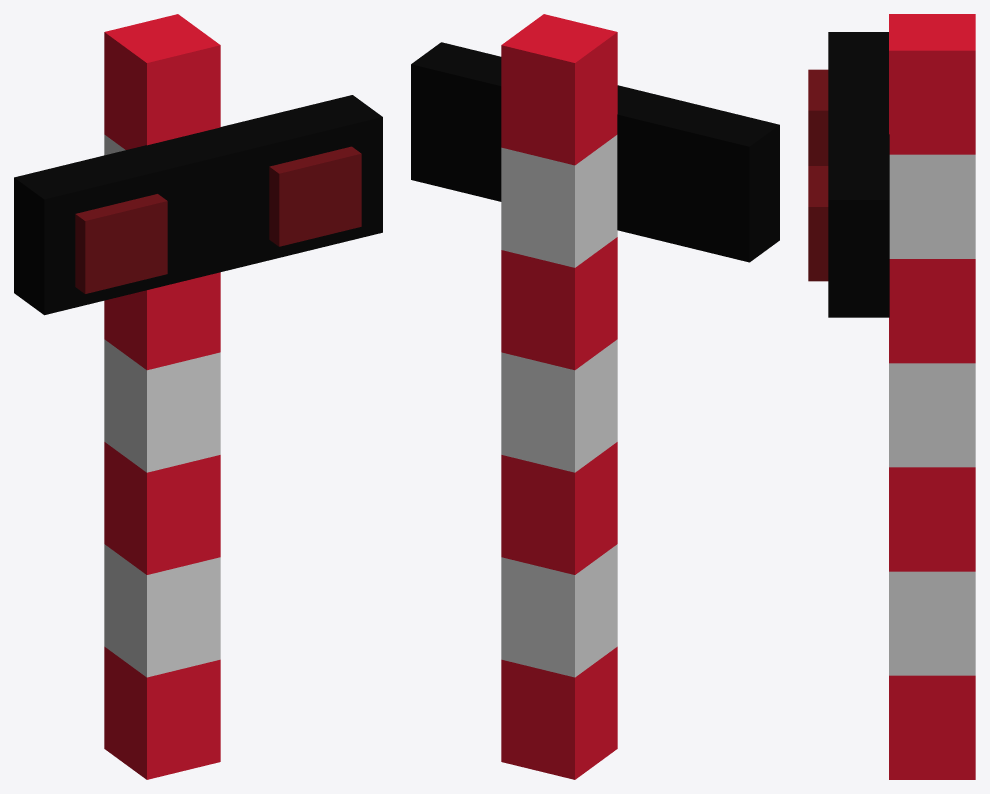
The model's file is light.fbx.
3 renders of one model, left to right at view 1: azimuth 30°, elevation 25°; view 2: azimuth 150°, elevation 25°; view 3: azimuth 270°, elevation 25°, orthographic.
Visible parts, largest first — view 1: Cube, Cube.001, Cube.002, Cube.003; view 2: Cube, Cube.001; view 3: Cube, Cube.001, Cube.002, Cube.003.
Part boxes in pixels (box(x1,y1,x2,y2)): Cube: box(104, 14, 220, 779); Cube.001: box(14, 95, 382, 315); Cube.002: box(269, 146, 361, 246); Cube.003: box(75, 194, 167, 293); Cube: box(501, 14, 617, 779); Cube.001: box(411, 42, 779, 262); Cube: box(889, 14, 975, 779); Cube.001: box(828, 32, 889, 317); Cube.002: box(808, 166, 828, 281); Cube.003: box(808, 69, 828, 165).
Size of the model in its own units: 184 by 372 by 77.25.
